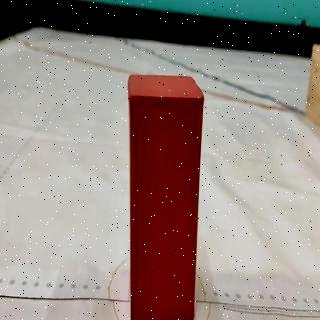redbox: (128, 73, 204, 320)
